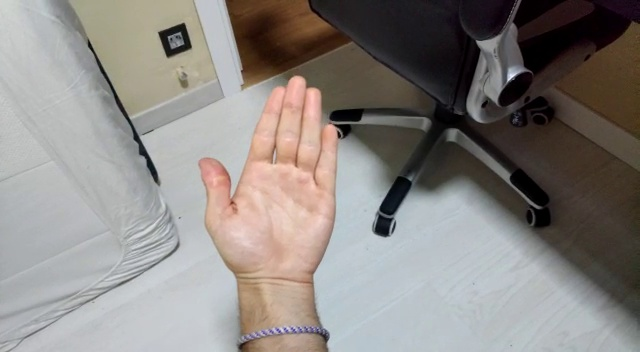Palm: (197, 73, 340, 278)
